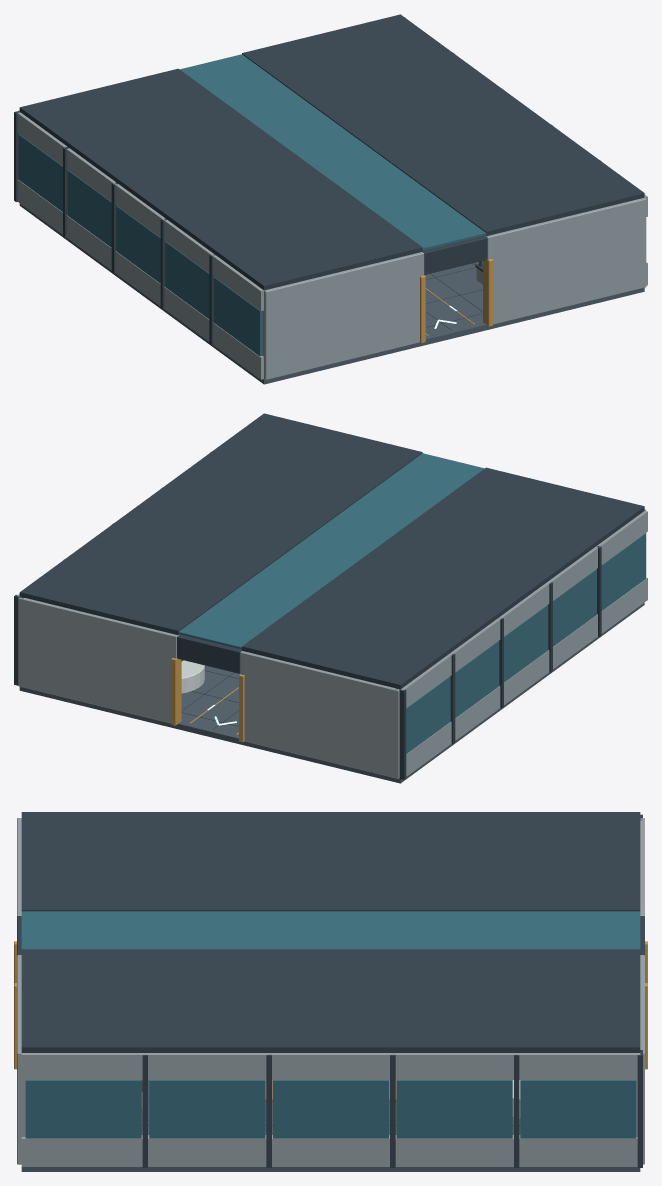
File: itun_embassy.glb
3 views of the same model, one above another, from view 1: azimuth 30°, elevation 25°; view 2: azimuth 150°, elevation 25°; view 3: azimuth 270°, elevation 25° (orthographic). The views are drawn at different scales.
Visible parts, largest first — view 1: roof-col, front_wall-col, side_walls-col, deck-col; view 2: roof-col, back_wall-col, side_walls-col, deck-col, furnishings-col; view 3: roof-col, side_walls-col, deck-col, front_wall-col, back_wall-col.
Boxes of the visible parts, x1=… form: roof-col: x1=19, y1=14, x2=644, y2=290; front_wall-col: x1=262, y1=198, x2=646, y2=379; side_walls-col: x1=14, y1=17, x2=647, y2=379; deck-col: x1=19, y1=203, x2=644, y2=384; roof-col: x1=19, y1=413, x2=644, y2=689; back_wall-col: x1=18, y1=597, x2=399, y2=778; side_walls-col: x1=14, y1=452, x2=647, y2=779; deck-col: x1=19, y1=603, x2=644, y2=783; furnishings-col: x1=181, y1=660, x2=204, y2=693; roof-col: x1=21, y1=812, x2=640, y2=1052; side_walls-col: x1=21, y1=814, x2=642, y2=1167; deck-col: x1=21, y1=1080, x2=640, y2=1171; front_wall-col: x1=14, y1=818, x2=25, y2=1164; back_wall-col: x1=636, y1=818, x2=647, y2=1164.
Bounding box in the file's own units: 36.9 × 8.9 × 41.
